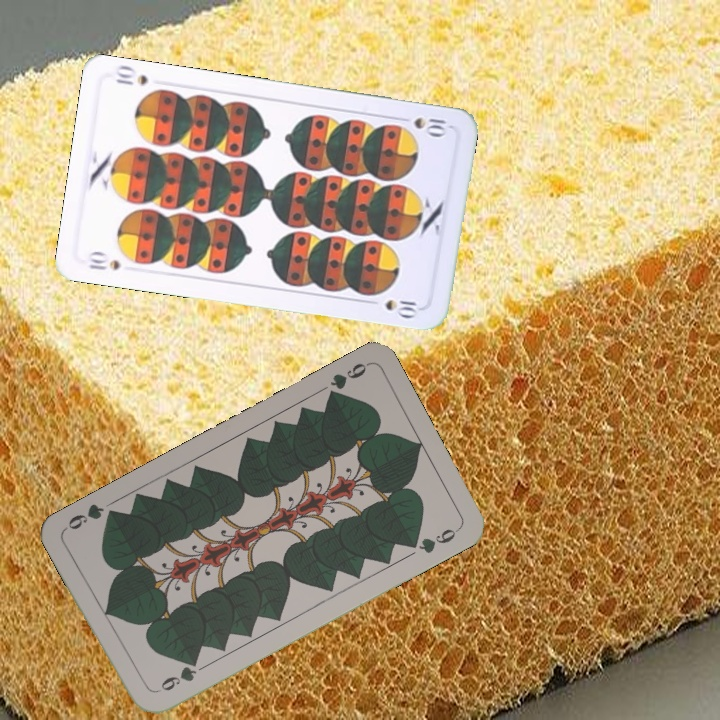G9: (151, 655, 206, 696), (323, 358, 371, 403)
S10: (393, 113, 449, 139), (85, 248, 124, 273)
